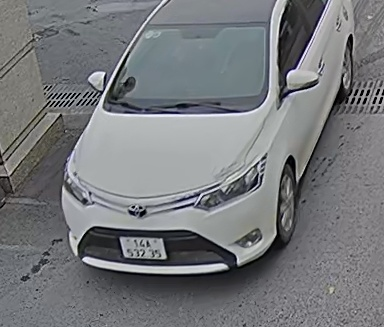vehicle plate: (115, 231, 169, 264)
